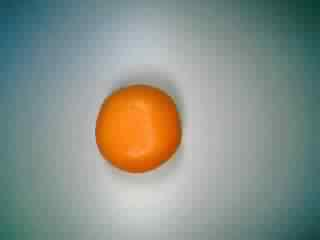orange: (91, 81, 184, 178)
